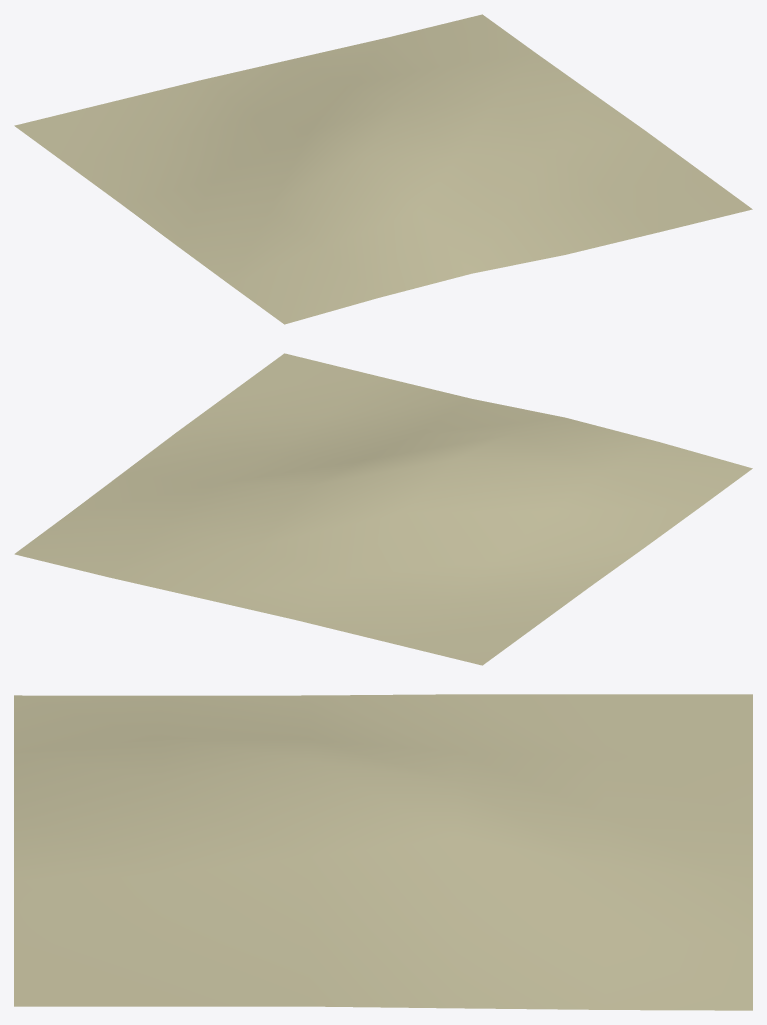
Rendered from SandPile01.fbx.
3 views of the same model, one above another, from view 1: azimuth 30°, elevation 25°; view 2: azimuth 150°, elevation 25°; view 3: azimuth 270°, elevation 25° (orthographic). The views are drawn at different scales.
Parts seen in each view (by area): view 1: pPlane12; view 2: pPlane12; view 3: pPlane12.
Part boxes in pixels (x1=…): pPlane12: x1=14, y1=14, x2=752, y2=324; pPlane12: x1=14, y1=353, x2=752, y2=665; pPlane12: x1=14, y1=694, x2=752, y2=1010.
Size of the model in its own units: 942 by 86.54 by 942.
